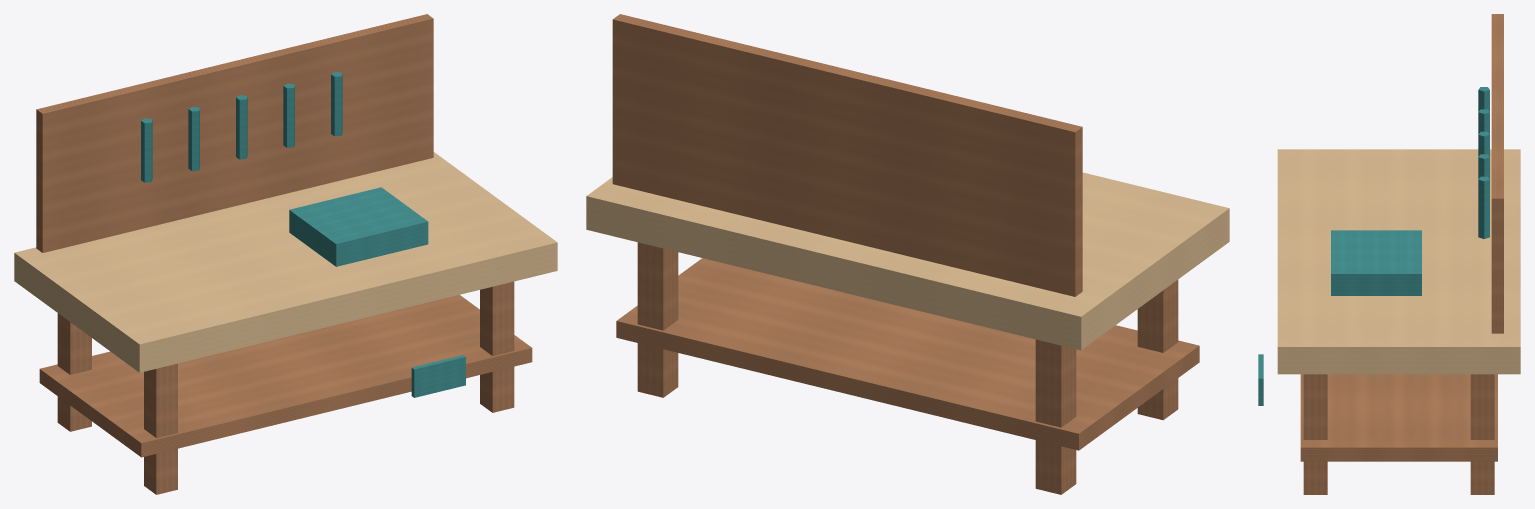
Rendered from atlas100-s096-a06.lod1.glb.
3 views of the same model, side by side, from view 1: azimuth 30°, elevation 25°; view 2: azimuth 150°, elevation 25°; view 3: azimuth 270°, elevation 25° (orthographic). The views are drawn at different scales.
Visible parts, largest first — view 1: atlas100-s096-a06:part-004, atlas100-s096-a06:part-006, atlas100-s096-a06:part-005, atlas100-s096-a06:part-012, atlas100-s096-a06:part-003, atlas100-s096-a06:part-001, atlas100-s096-a06:part-000, atlas100-s096-a06:part-013, atlas100-s096-a06:part-007, atlas100-s096-a06:part-008, atlas100-s096-a06:part-010, atlas100-s096-a06:part-009 (+1 smaller); view 2: atlas100-s096-a06:part-006, atlas100-s096-a06:part-005, atlas100-s096-a06:part-004, atlas100-s096-a06:part-002, atlas100-s096-a06:part-000, atlas100-s096-a06:part-001; view 3: atlas100-s096-a06:part-004, atlas100-s096-a06:part-005, atlas100-s096-a06:part-012, atlas100-s096-a06:part-006, atlas100-s096-a06:part-002, atlas100-s096-a06:part-003, atlas100-s096-a06:part-011, atlas100-s096-a06:part-013.
Boxes of the visible parts, x1=… form: atlas100-s096-a06:part-004: x1=14, y1=152, x2=557, y2=372; atlas100-s096-a06:part-006: x1=36, y1=14, x2=433, y2=252; atlas100-s096-a06:part-005: x1=39, y1=295, x2=532, y2=457; atlas100-s096-a06:part-012: x1=289, y1=187, x2=428, y2=266; atlas100-s096-a06:part-003: x1=480, y1=281, x2=514, y2=412; atlas100-s096-a06:part-001: x1=144, y1=363, x2=177, y2=494; atlas100-s096-a06:part-000: x1=57, y1=313, x2=91, y2=431; atlas100-s096-a06:part-013: x1=411, y1=355, x2=465, y2=397; atlas100-s096-a06:part-007: x1=141, y1=118, x2=152, y2=182; atlas100-s096-a06:part-008: x1=188, y1=106, x2=199, y2=171; atlas100-s096-a06:part-010: x1=283, y1=83, x2=294, y2=147; atlas100-s096-a06:part-009: x1=236, y1=95, x2=247, y2=159; atlas100-s096-a06:part-006: x1=612, y1=14, x2=1082, y2=296; atlas100-s096-a06:part-005: x1=616, y1=258, x2=1199, y2=450; atlas100-s096-a06:part-004: x1=586, y1=172, x2=1229, y2=350; atlas100-s096-a06:part-002: x1=637, y1=242, x2=678, y2=397; atlas100-s096-a06:part-000: x1=1035, y1=339, x2=1076, y2=494; atlas100-s096-a06:part-001: x1=1137, y1=279, x2=1178, y2=420; atlas100-s096-a06:part-004: x1=1277, y1=149, x2=1520, y2=374; atlas100-s096-a06:part-005: x1=1300, y1=374, x2=1497, y2=461; atlas100-s096-a06:part-012: x1=1331, y1=230, x2=1421, y2=295; atlas100-s096-a06:part-006: x1=1491, y1=14, x2=1503, y2=333; atlas100-s096-a06:part-002: x1=1470, y1=374, x2=1494, y2=494; atlas100-s096-a06:part-003: x1=1303, y1=374, x2=1327, y2=494; atlas100-s096-a06:part-011: x1=1478, y1=176, x2=1489, y2=238; atlas100-s096-a06:part-013: x1=1258, y1=354, x2=1263, y2=405.
Bounding box in the file's own units: 3.08 × 2.21 × 1.73.
3 materials, 3 textured.
